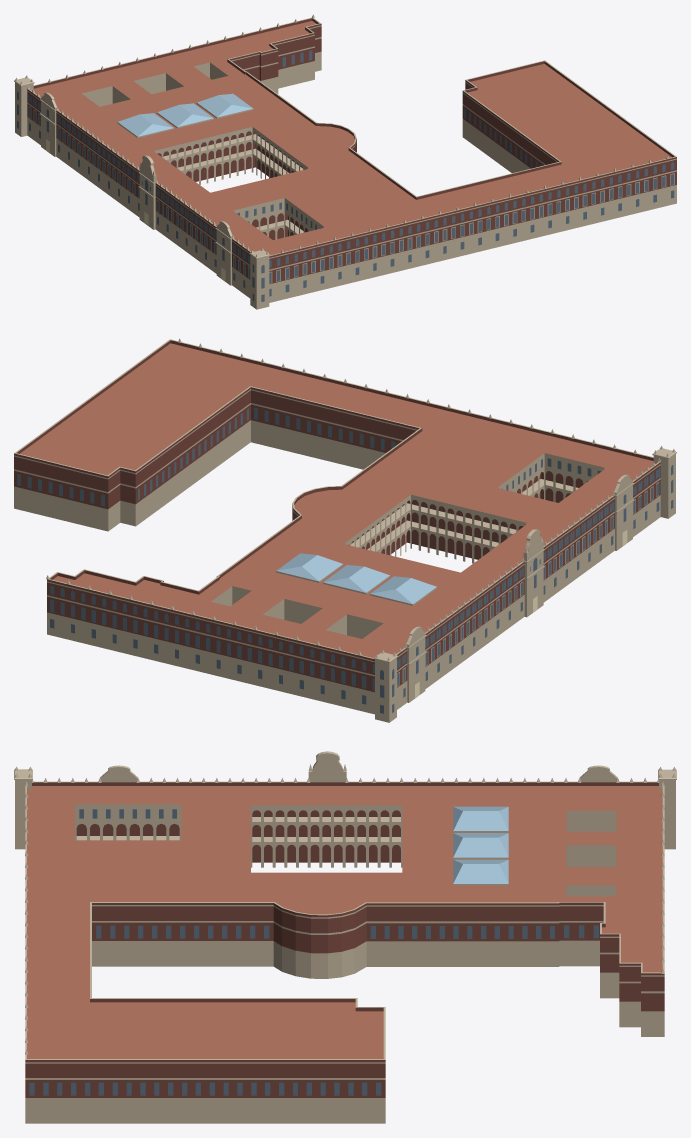
Rendered from mexico-city-palacio-nacional.glb.
The picture shows the model from 3 angles, top to bottom: view 1: azimuth 30°, elevation 25°; view 2: azimuth 150°, elevation 25°; view 3: azimuth 270°, elevation 25°; orthographic projection. The views are drawn at different scales.
Visible parts, largest first — view 1: Palacio Nacional; view 2: Palacio Nacional; view 3: Palacio Nacional.
Part boxes in pixels (x1=…): Palacio Nacional: x1=14, y1=14, x2=676, y2=309; Palacio Nacional: x1=14, y1=338, x2=676, y2=722; Palacio Nacional: x1=14, y1=751, x2=676, y2=1123.
Size of the model in its own units: 204 by 31.11 by 202.
